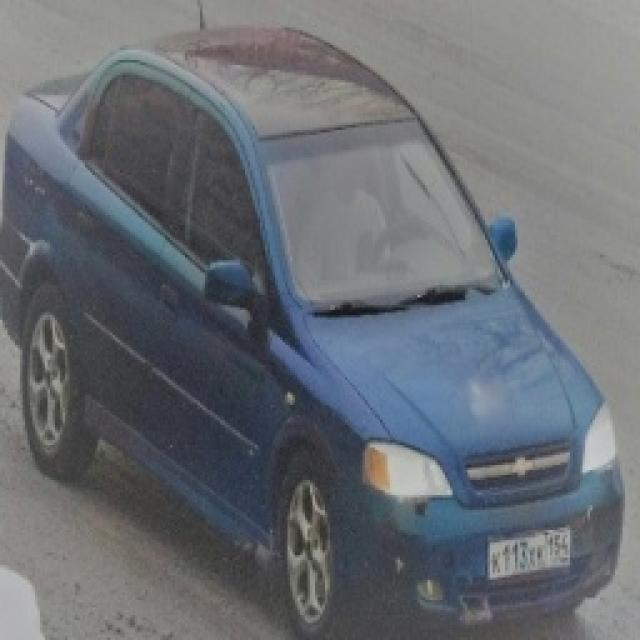windshield: (248, 110, 516, 331)
